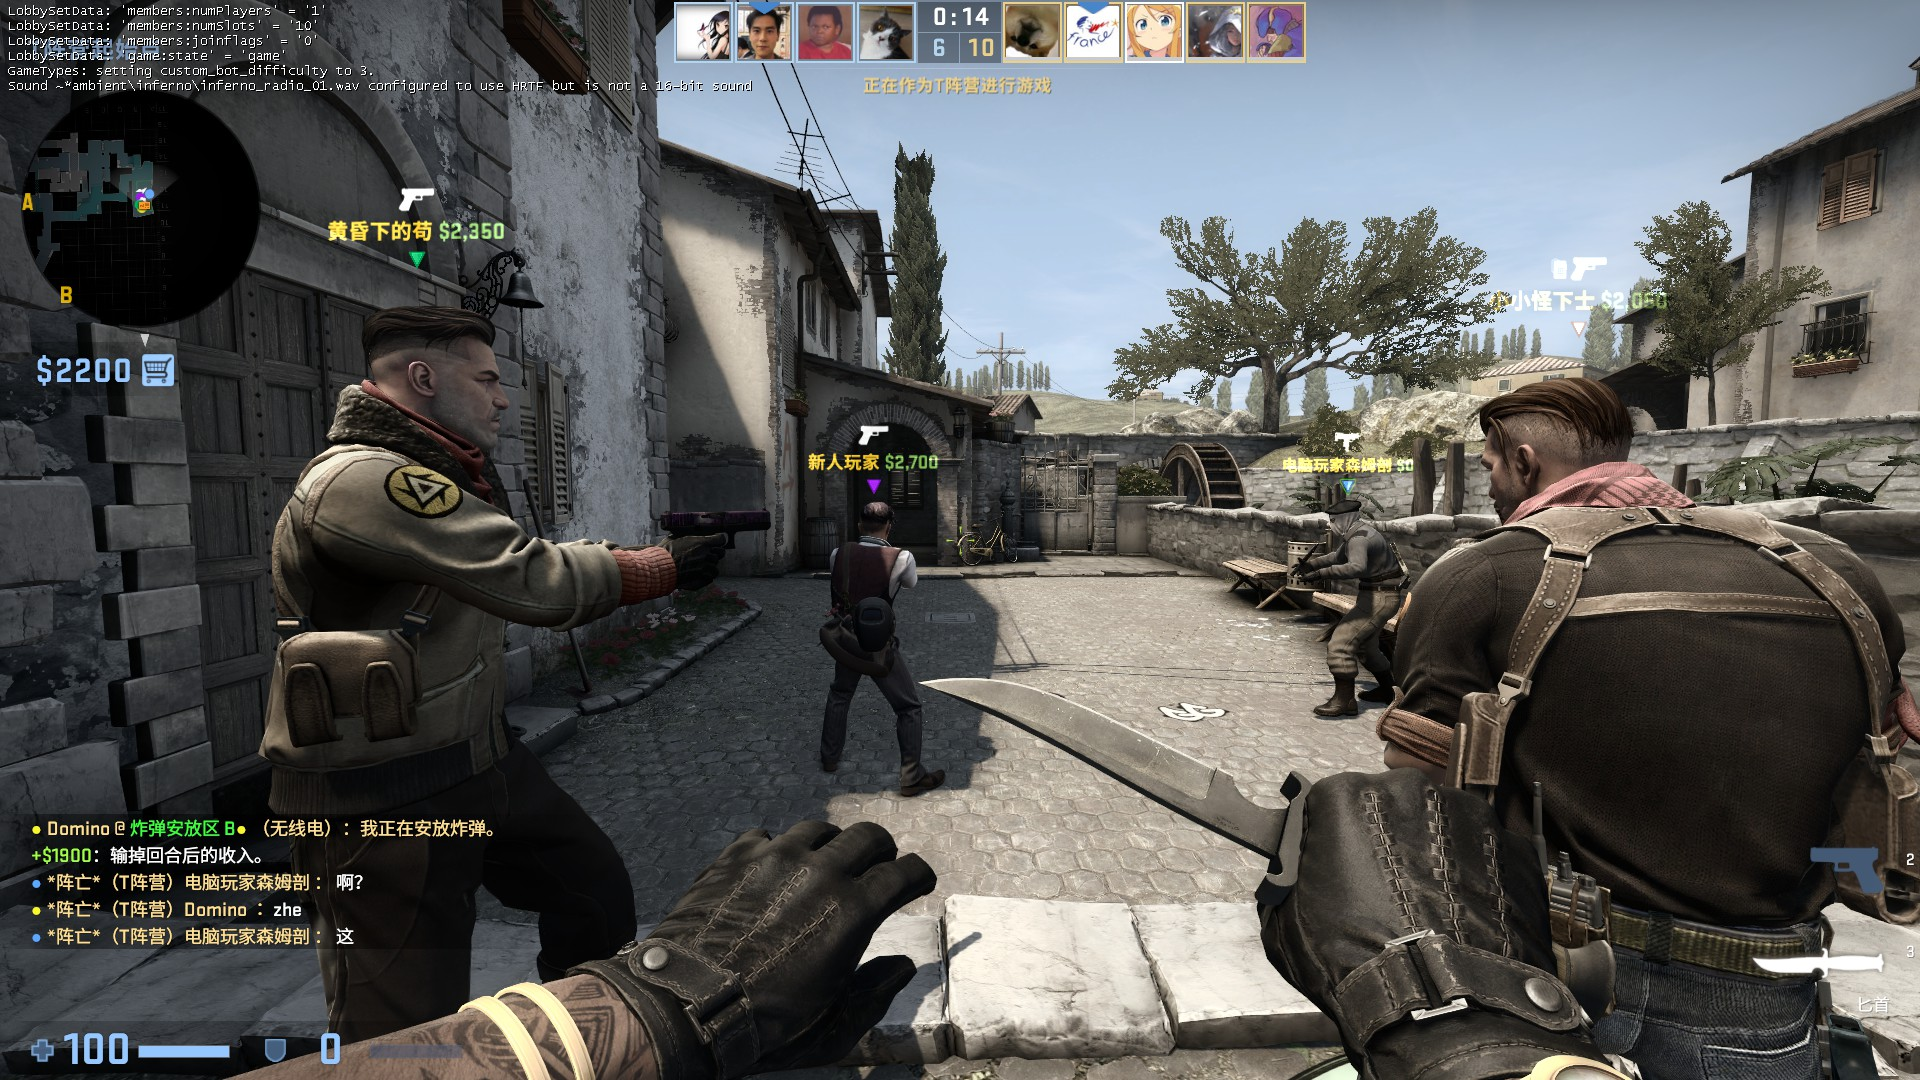head: (1477, 374, 1637, 526), (360, 307, 508, 449), (853, 501, 901, 545), (1324, 498, 1364, 538)
